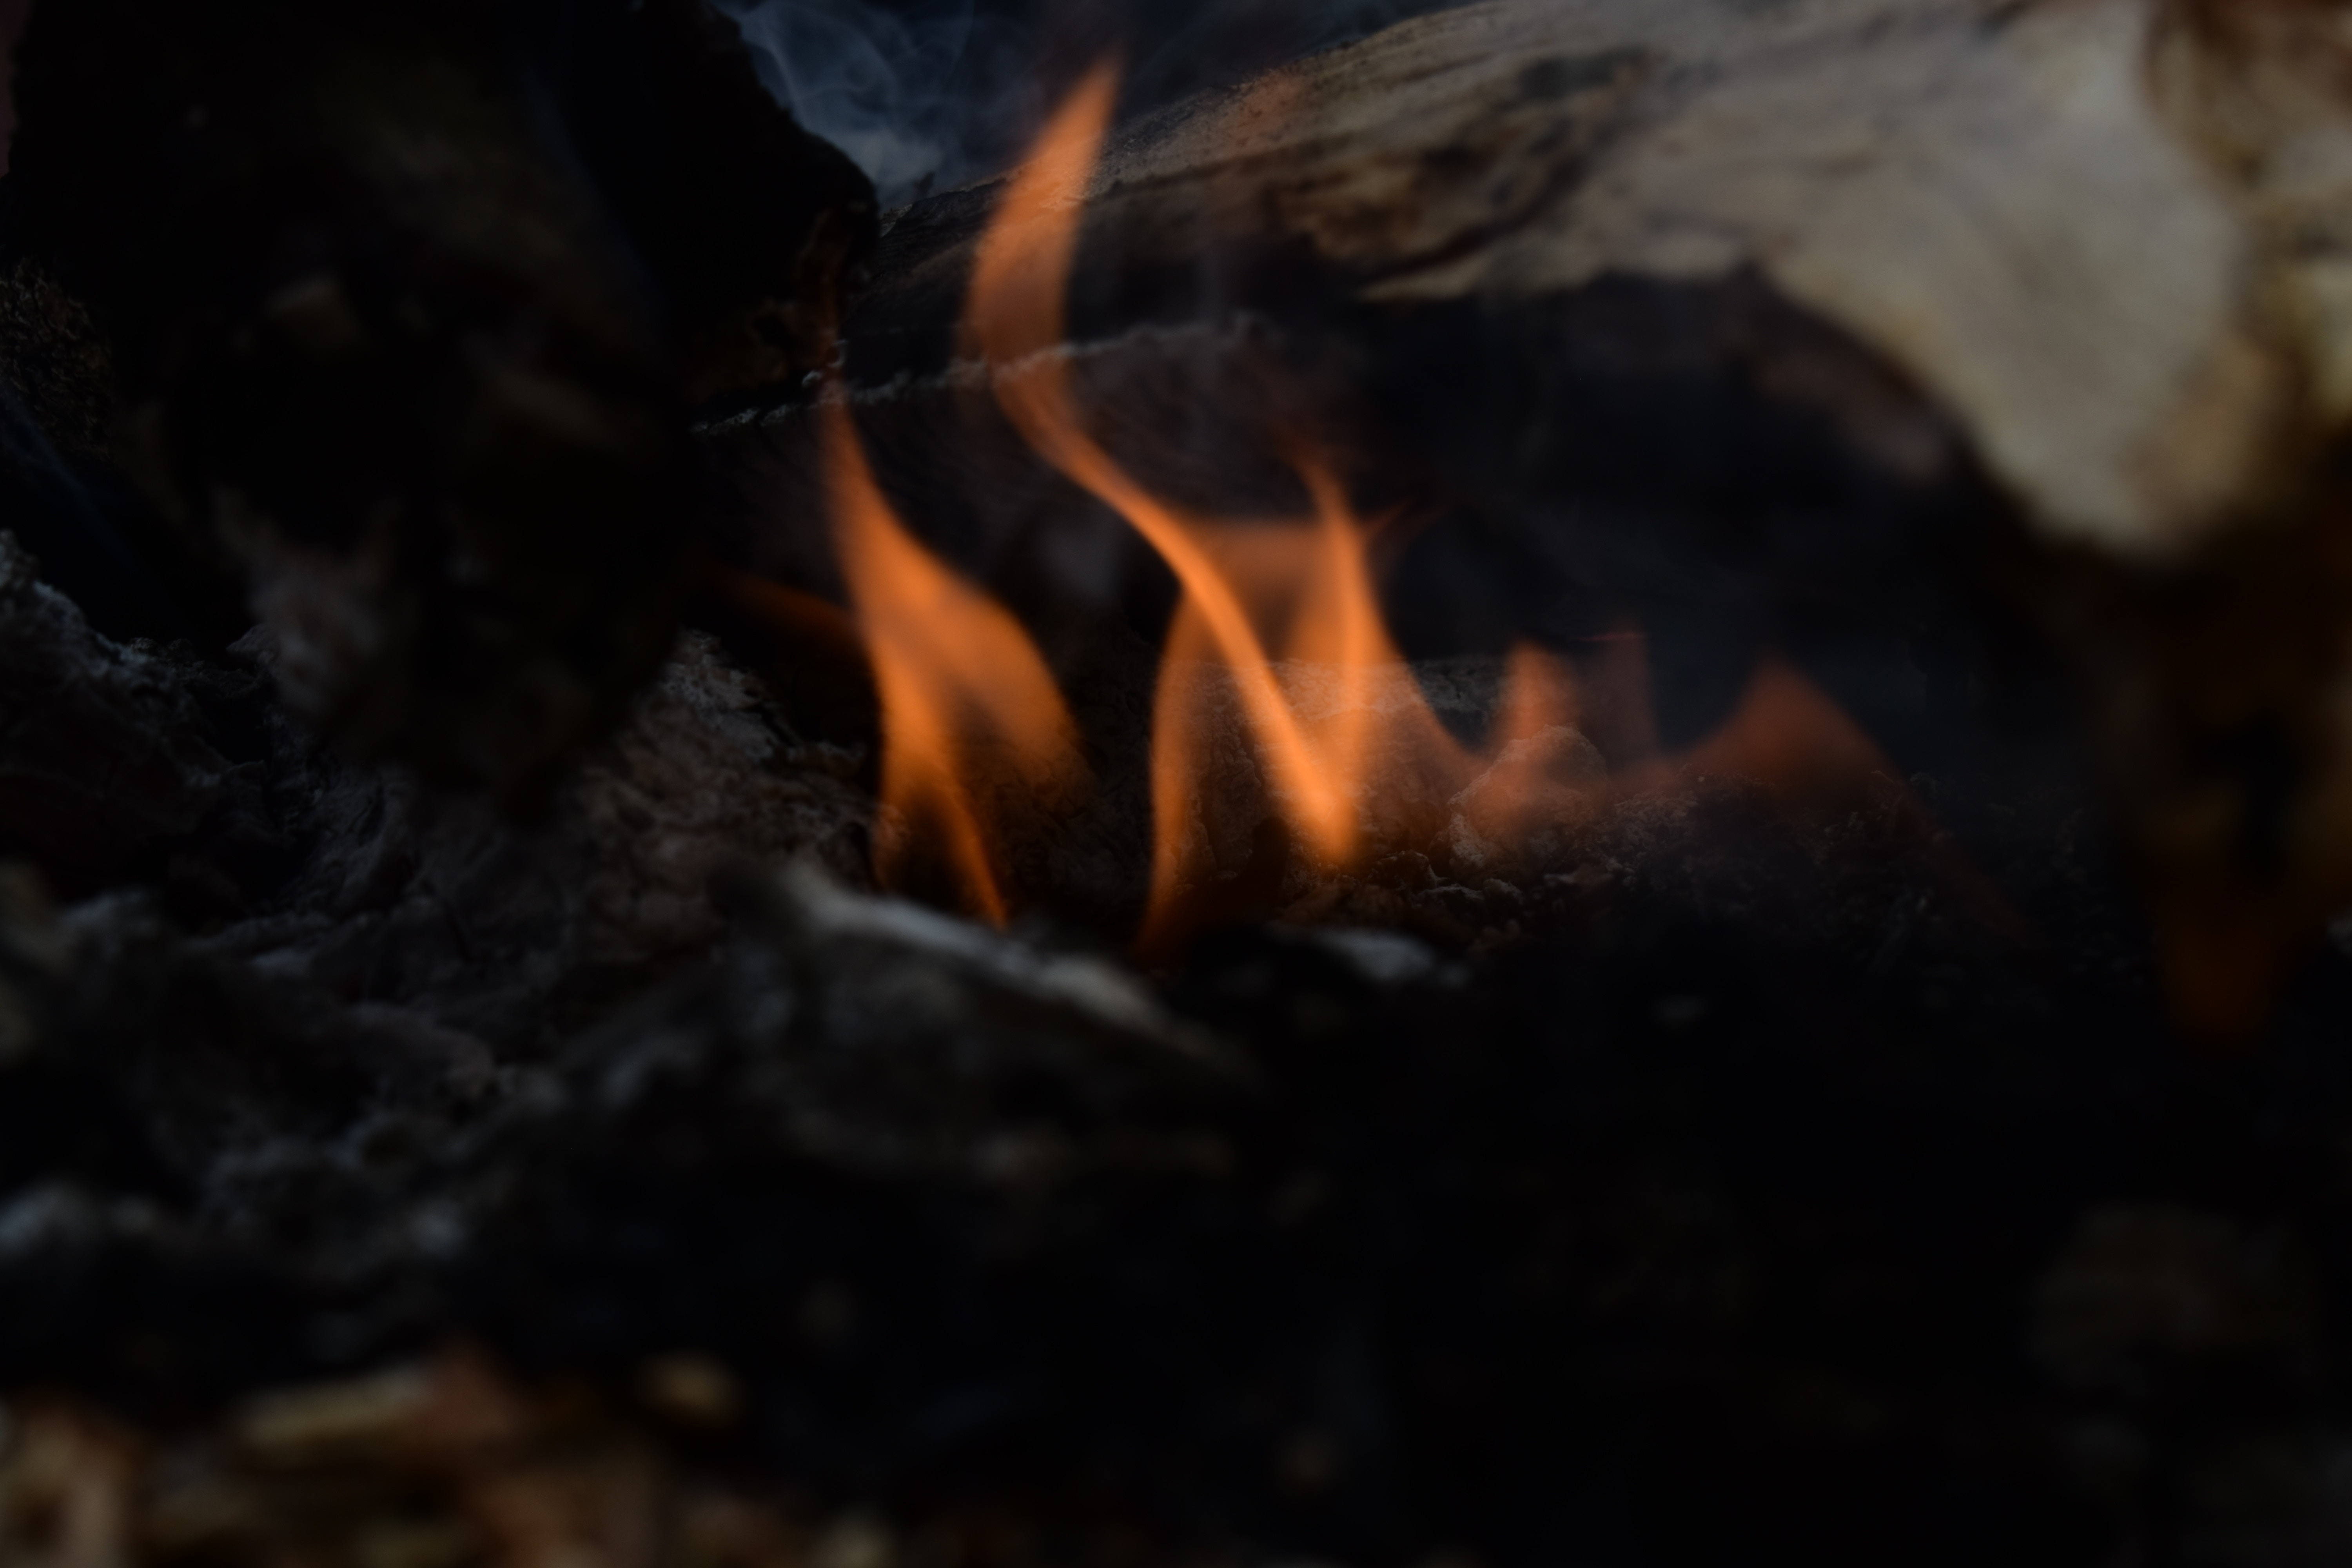fire: (803, 30, 2144, 921)
